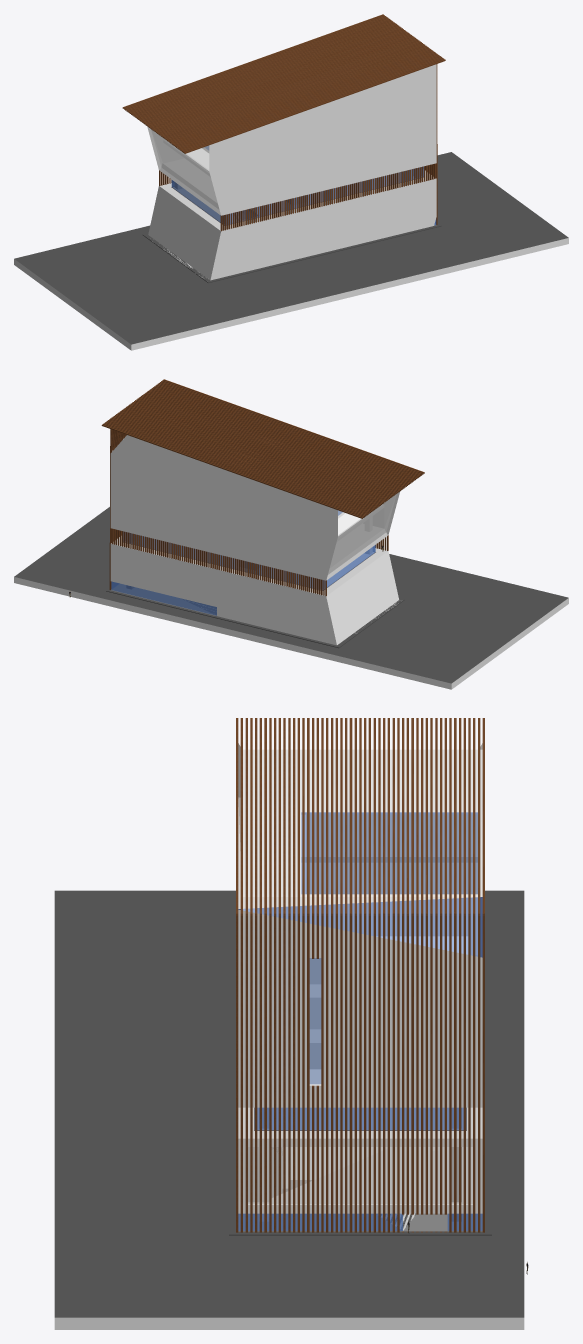
Rendered from BITCHASS.obj.
3 views of the same model, one above another, from view 1: azimuth 30°, elevation 25°; view 2: azimuth 150°, elevation 25°; view 3: azimuth 270°, elevation 25° (orthographic). The views are drawn at different scales.
Parts seen in each view (by area): view 1: Mesh27 Model; view 2: Mesh27 Model; view 3: Mesh27 Model.
Part boxes in pixels (x1,y1,x2,y2): Mesh27 Model: (14,14,568,350); Mesh27 Model: (14,379,568,689); Mesh27 Model: (54,718,524,1329).
Size of the model in its own units: 4872 by 1810 by 2284.
